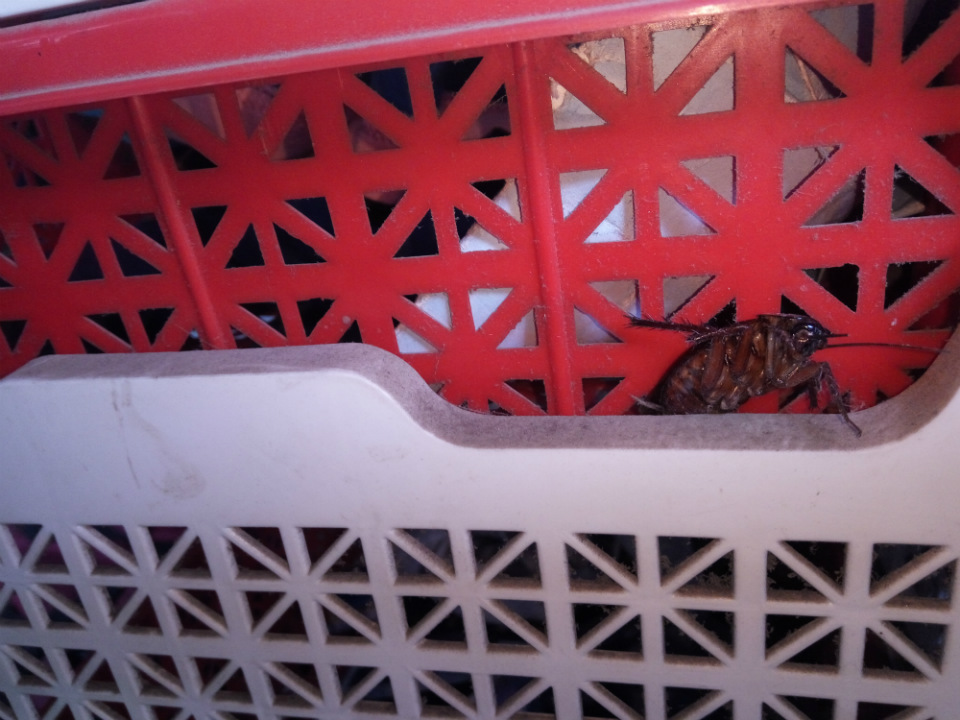cockroach: (614, 286, 944, 434)
